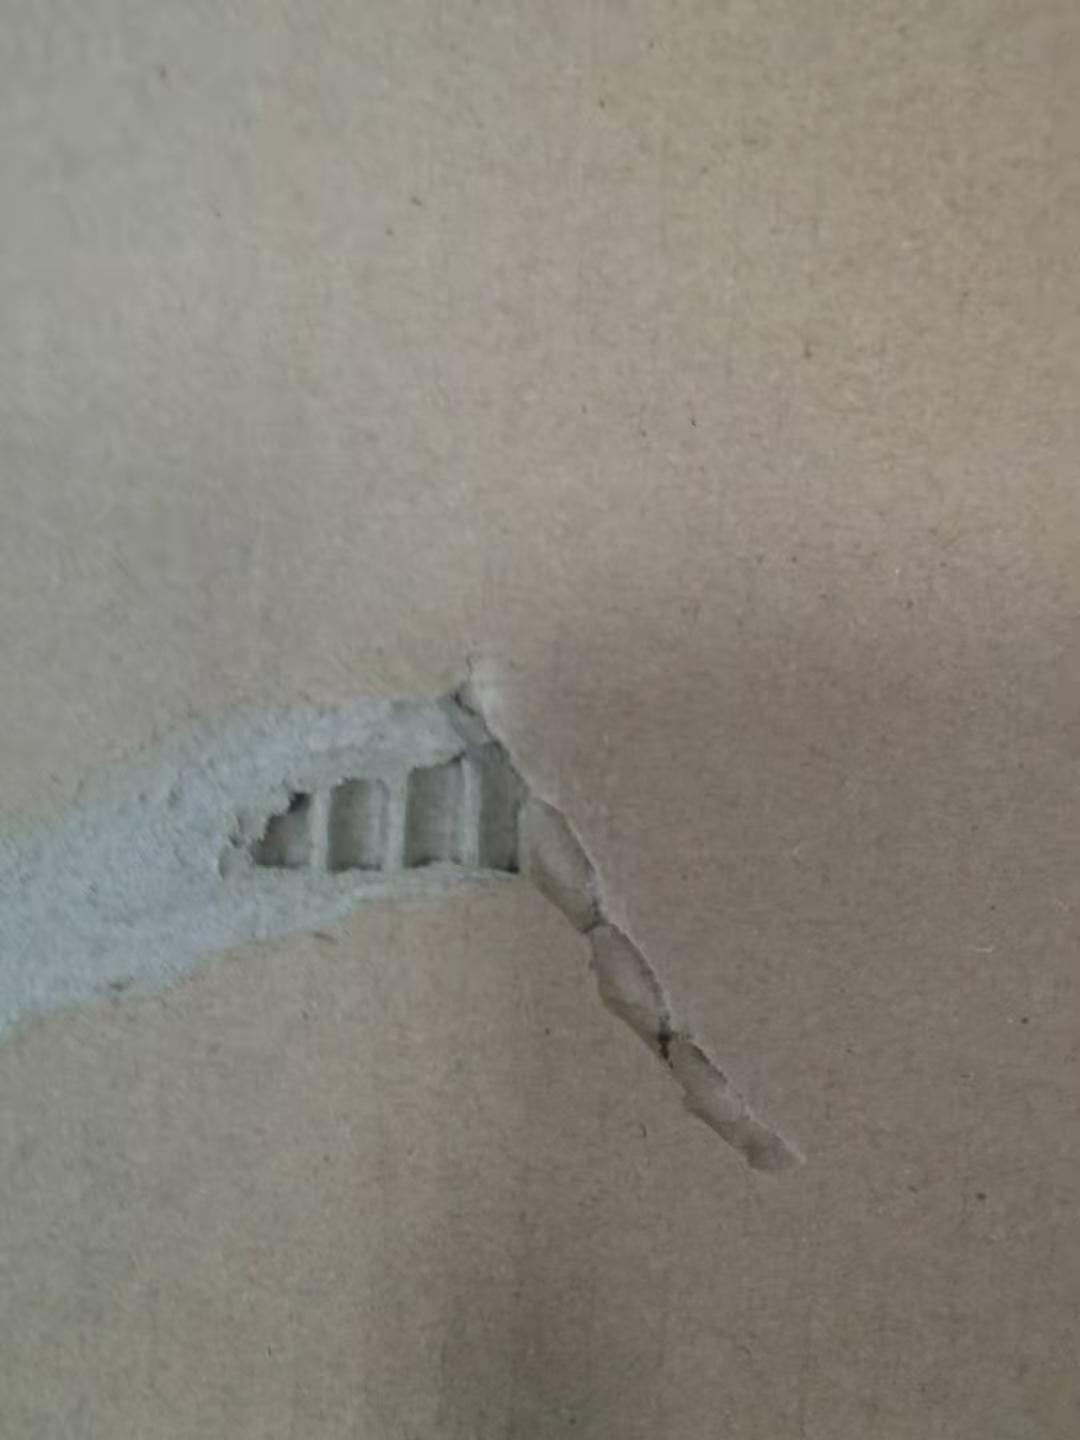defect: (3, 628, 846, 1205)
